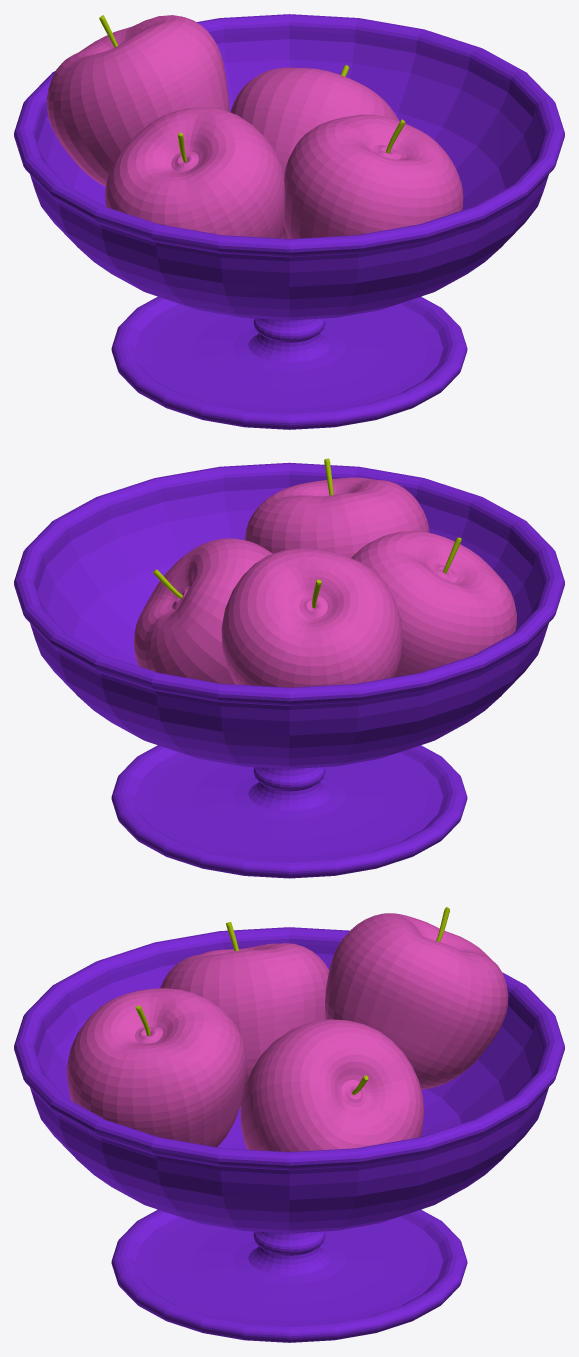
3 renders of one model, top to bottom at view 1: azimuth 30°, elevation 25°; view 2: azimuth 150°, elevation 25°; view 3: azimuth 270°, elevation 25°, orthographic.
Parts seen in each view (by area): view 1: world; view 2: world; view 3: world.
Boxes of the visible parts, box(x1,y1,x2,y2) form: world: box(14, 14, 564, 429); world: box(14, 458, 564, 878); world: box(14, 907, 564, 1342).
Bounding box in the file's own units: 0.9999 × 0.6225 × 1.
